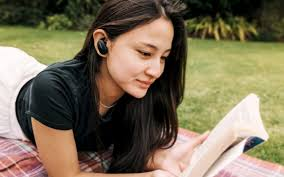earphone: (93, 29, 112, 57)
